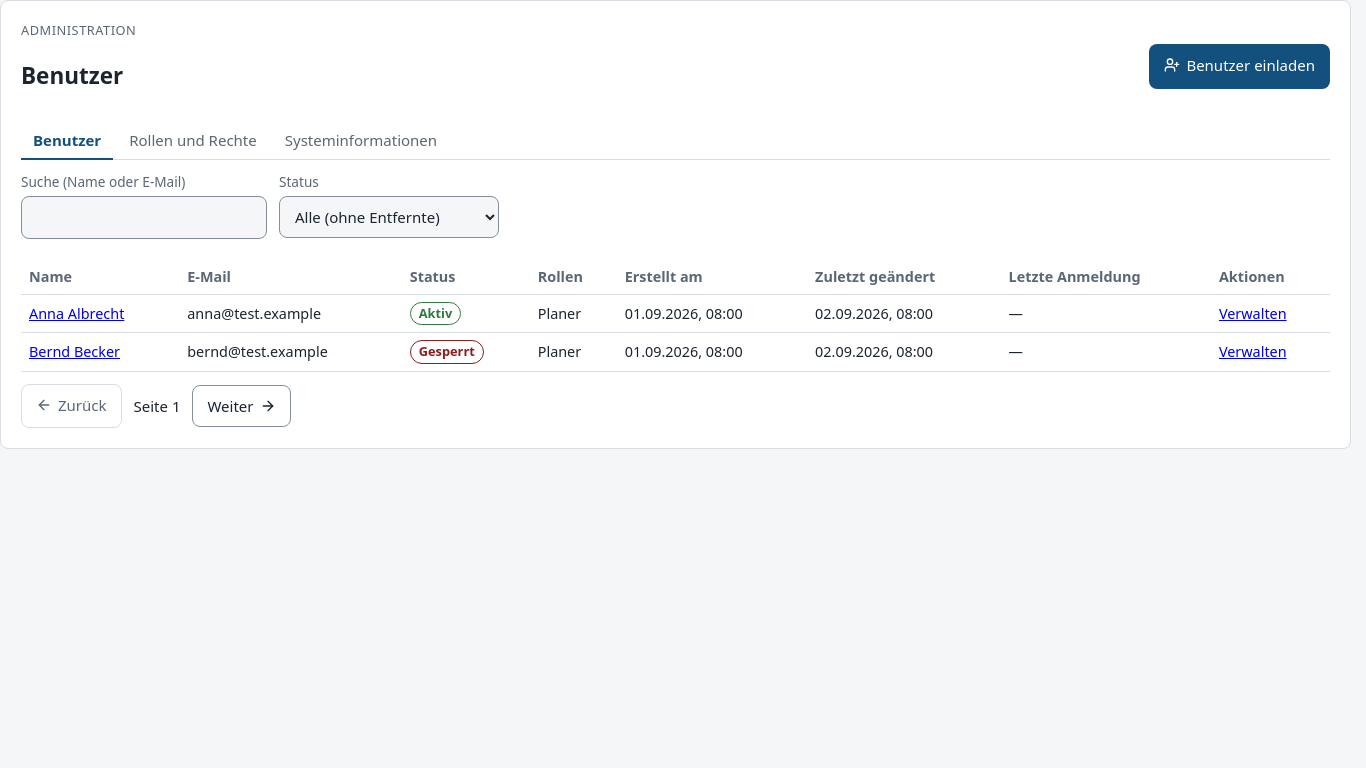
Test: Einladen und Einladungen verwalten › widerruft eine Einladung erst nach Rückfrage und mit If-Match
Expected: the link "Anna Albrecht" is shown, [29,304,124,323]
Click the button "Weiter" at (242, 406), box [192,385,291,427]
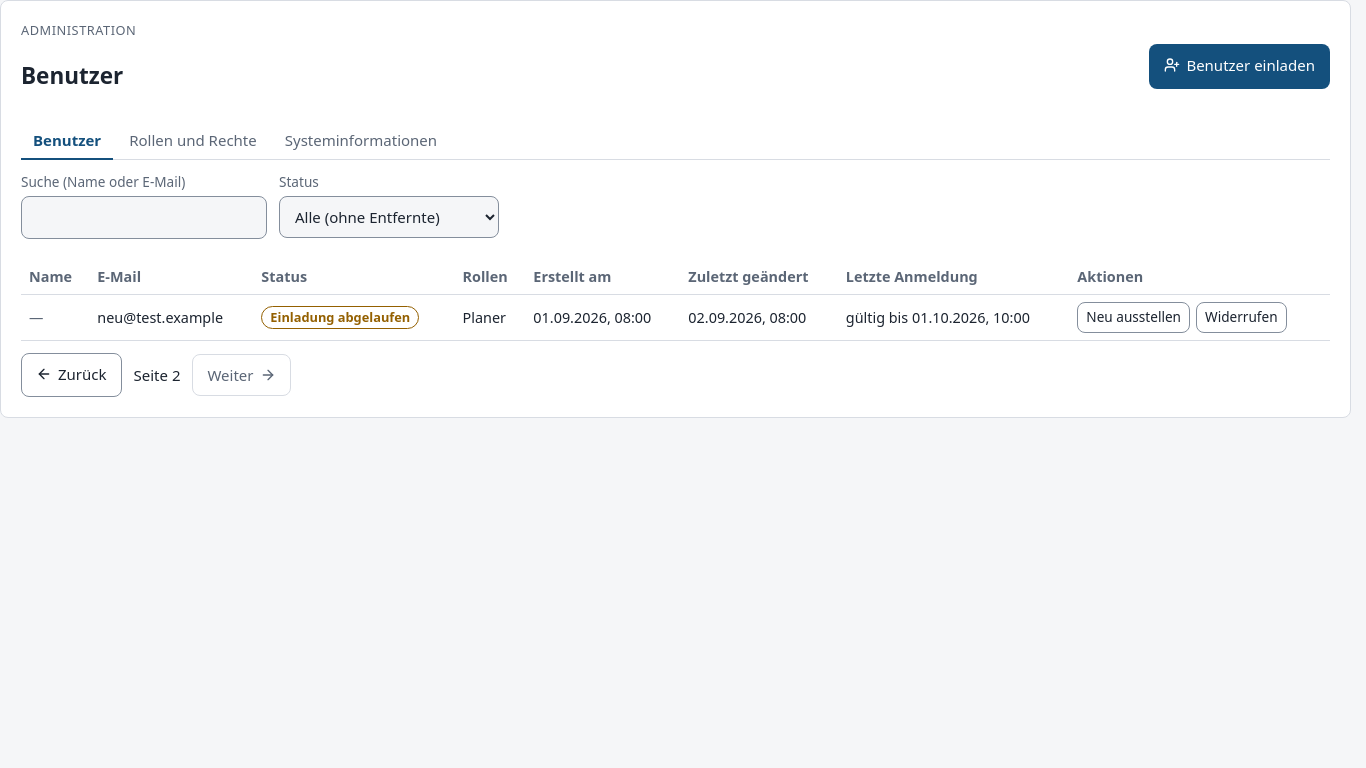
Click the button "Widerrufen" at (1241, 318), box [1196,302,1287,333]
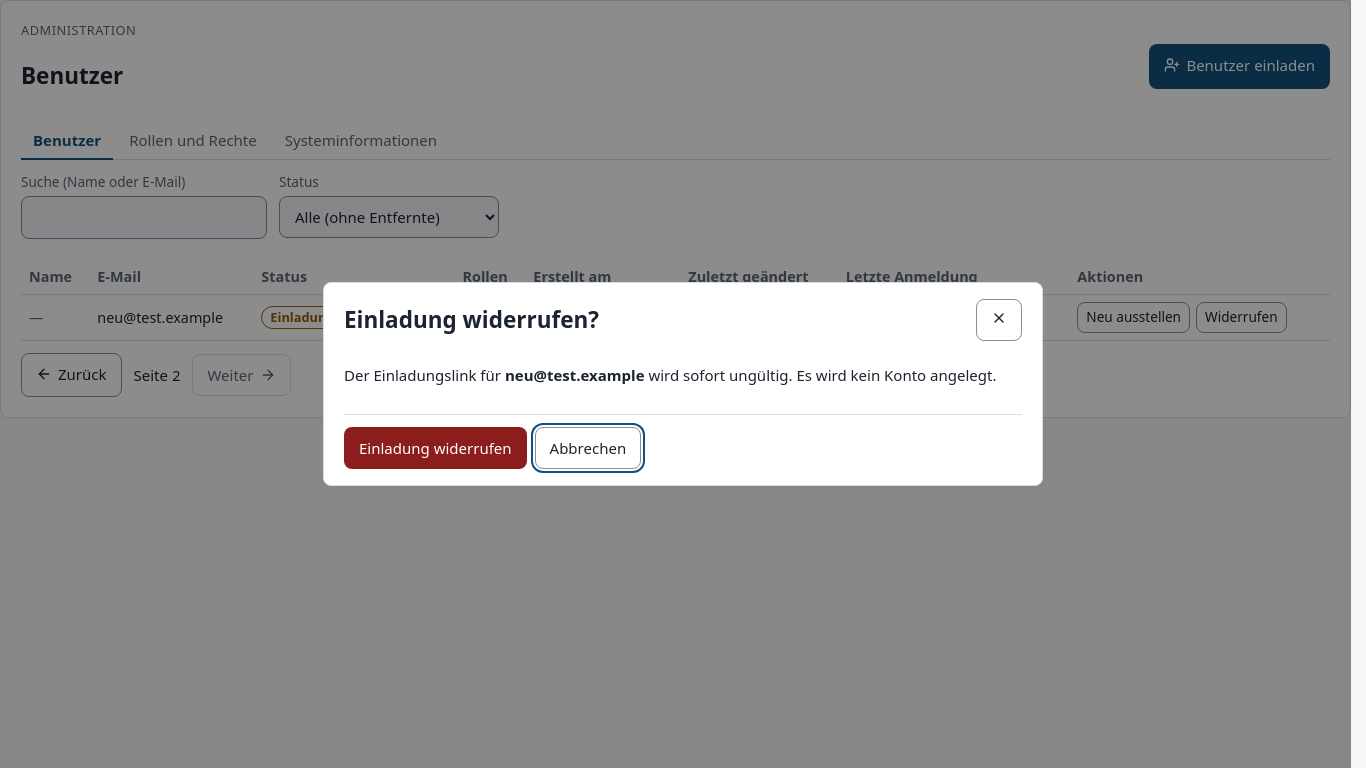
Click the button "Einladung widerrufen" at (435, 448), box [344,427,527,469]
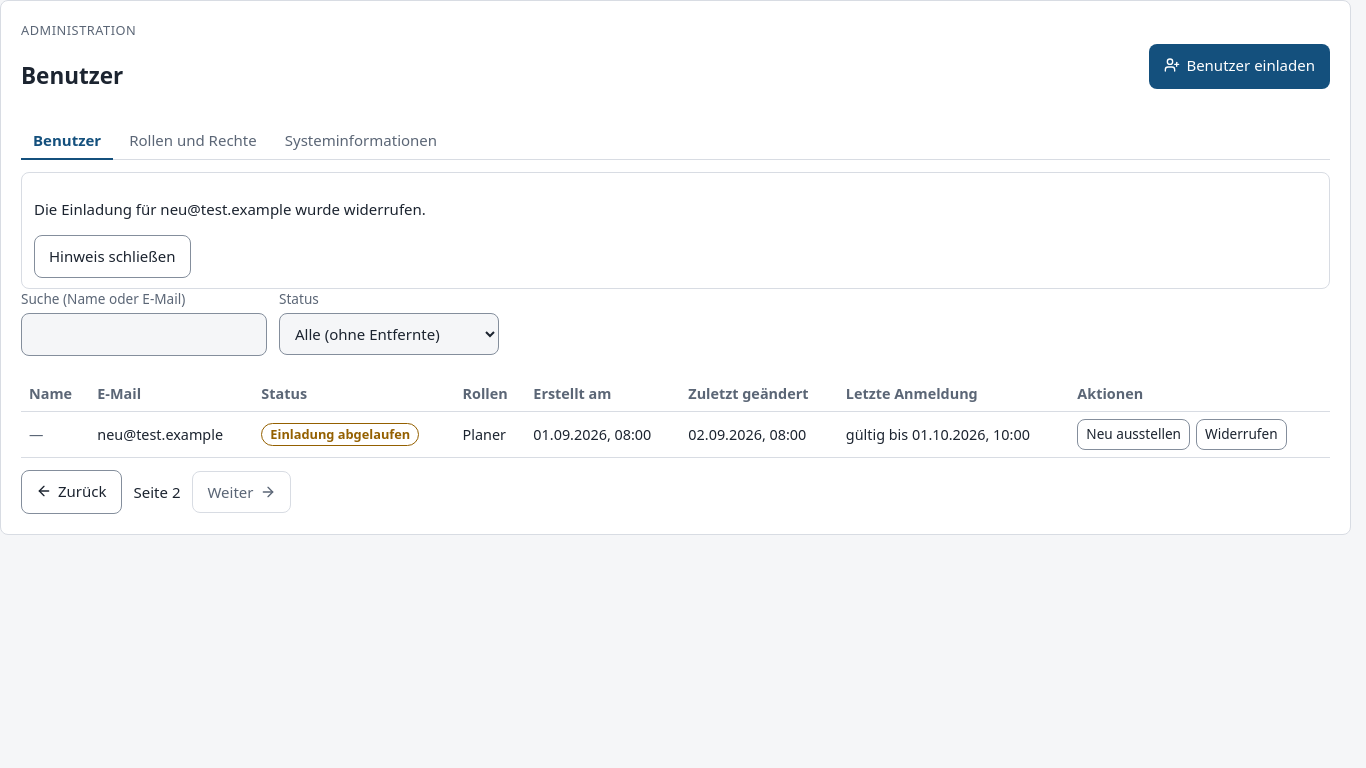
Expected: the text "Die Einladung für neu@test.example wurde widerrufen." is shown, [34,199,426,219]
